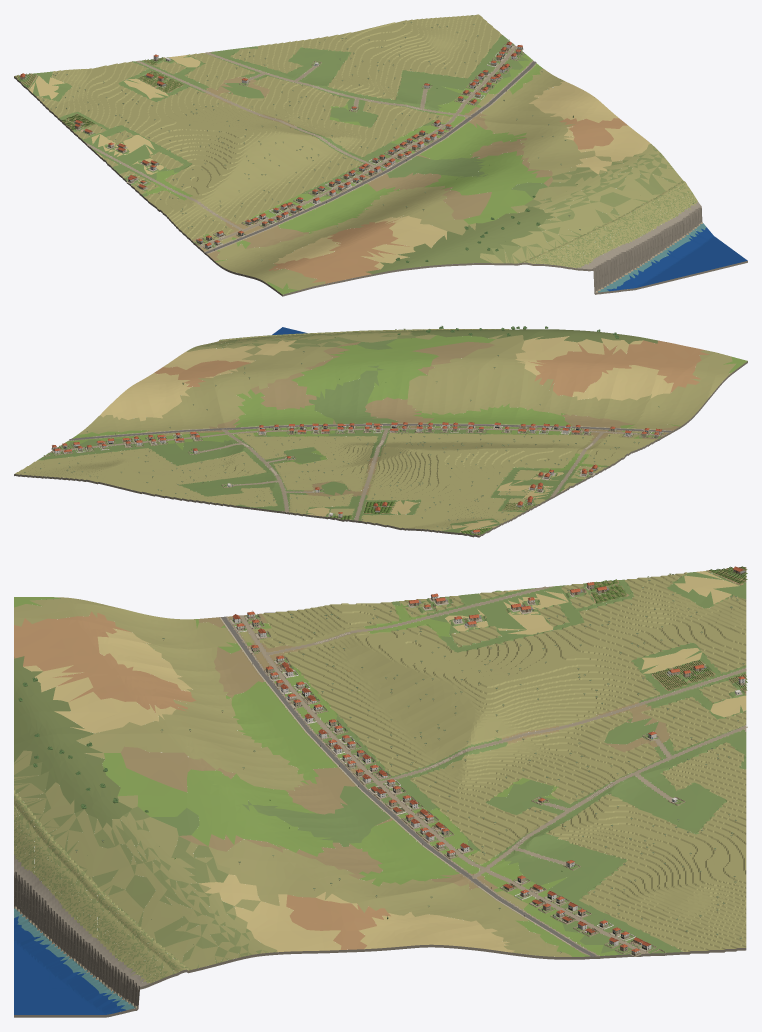
The model's file is parca_+11_-7-yakin.glb.
3 views of the same model, one above another, from view 1: azimuth 30°, elevation 25°; view 2: azimuth 150°, elevation 25°; view 3: azimuth 270°, elevation 25° (orthographic). The views are drawn at different scales.
Parts seen in each view (by area): view 1: parca_+11_-7_arazi, parca_+11_-7_yapilar, parca_+11_-7_yollar, parca_+11_-7_duvarlar, parca_+11_-7_bitkiler, parca_+11_-7_asma; view 2: parca_+11_-7_arazi, parca_+11_-7_yapilar, parca_+11_-7_yollar, parca_+11_-7_duvarlar, parca_+11_-7_bitkiler, parca_+11_-7_asma; view 3: parca_+11_-7_arazi, parca_+11_-7_yapilar, parca_+11_-7_yollar, parca_+11_-7_duvarlar, parca_+11_-7_bitkiler, parca_+11_-7_asma.
Part boxes in pixels (x1,y1,x2,y2): parca_+11_-7_arazi: (14, 14, 747, 296); parca_+11_-7_yapilar: (19, 41, 523, 249); parca_+11_-7_yollar: (87, 46, 536, 253); parca_+11_-7_duvarlar: (193, 40, 523, 250); parca_+11_-7_bitkiler: (43, 15, 693, 262); parca_+11_-7_asma: (15, 57, 183, 130); parca_+11_-7_arazi: (14, 327, 747, 537); parca_+11_-7_yapilar: (51, 422, 663, 535); parca_+11_-7_yollar: (51, 423, 671, 520); parca_+11_-7_duvarlar: (44, 425, 664, 493); parca_+11_-7_bitkiler: (24, 326, 659, 529); parca_+11_-7_asma: (330, 501, 536, 534); parca_+11_-7_arazi: (14, 567, 746, 1017); parca_+11_-7_yapilar: (230, 566, 746, 956); parca_+11_-7_yollar: (219, 586, 747, 956); parca_+11_-7_duvarlar: (229, 614, 685, 954); parca_+11_-7_bitkiler: (18, 573, 744, 976); parca_+11_-7_asma: (590, 566, 747, 690).
Size of the model in its own units: 1011 by 217 by 1002.
